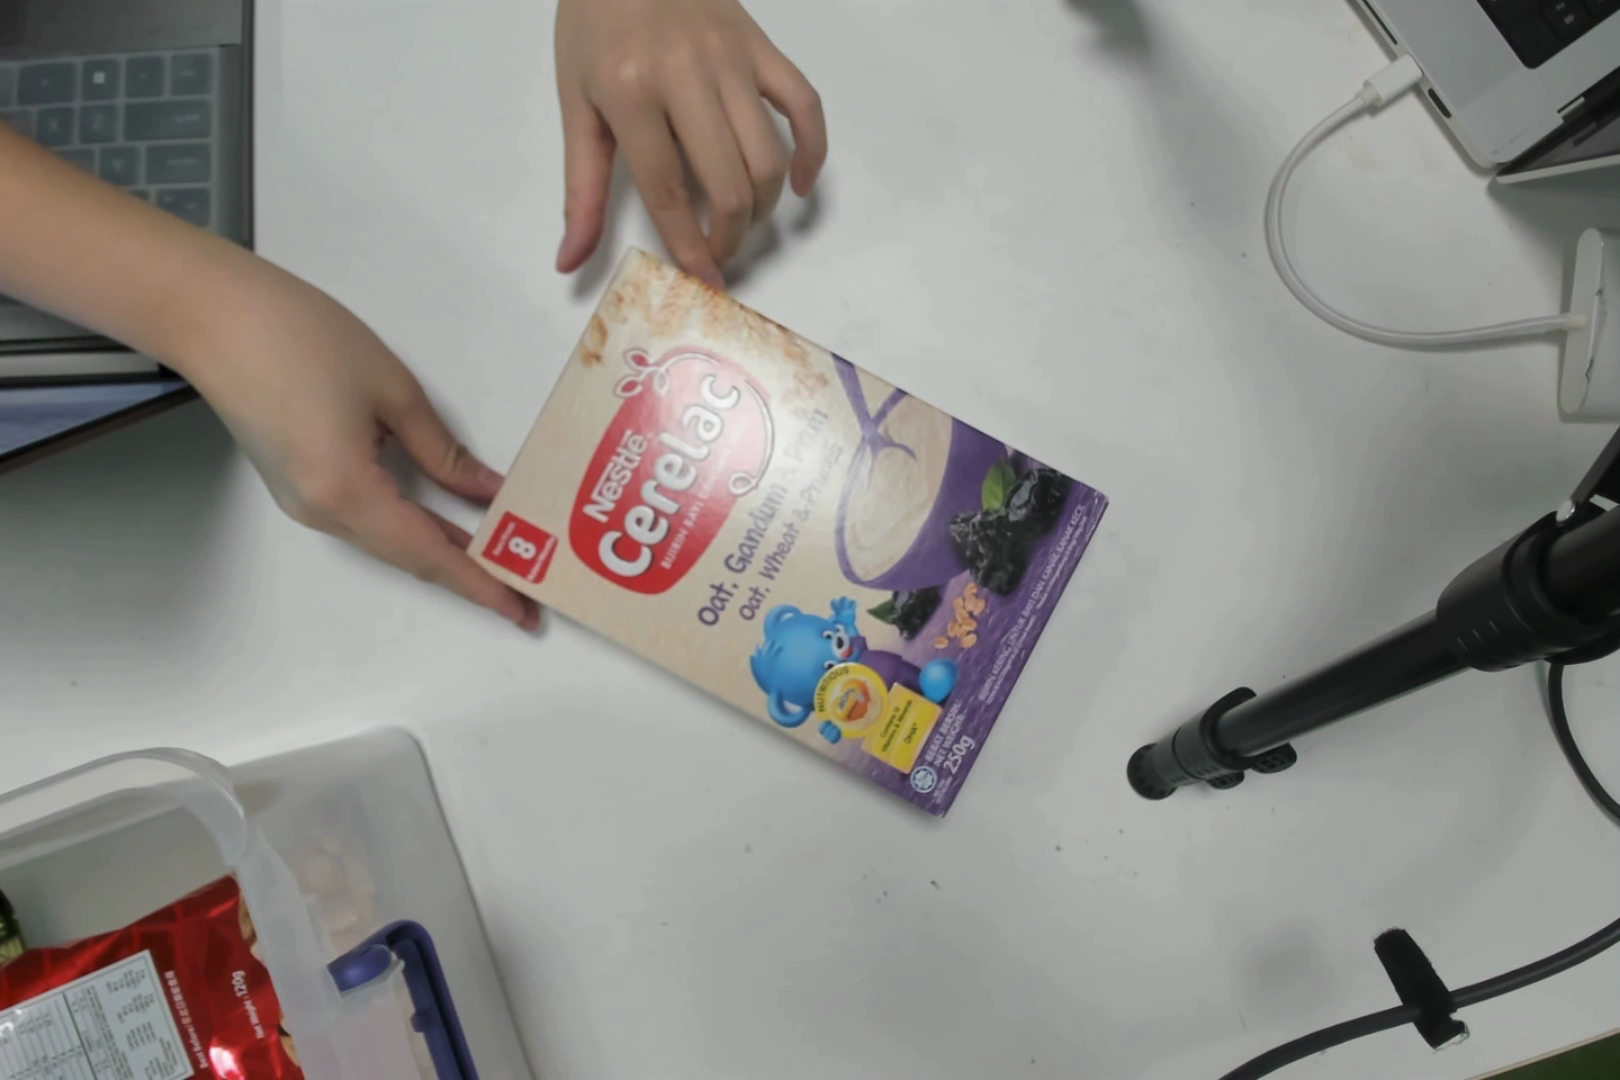d: (485, 318, 1109, 802)
